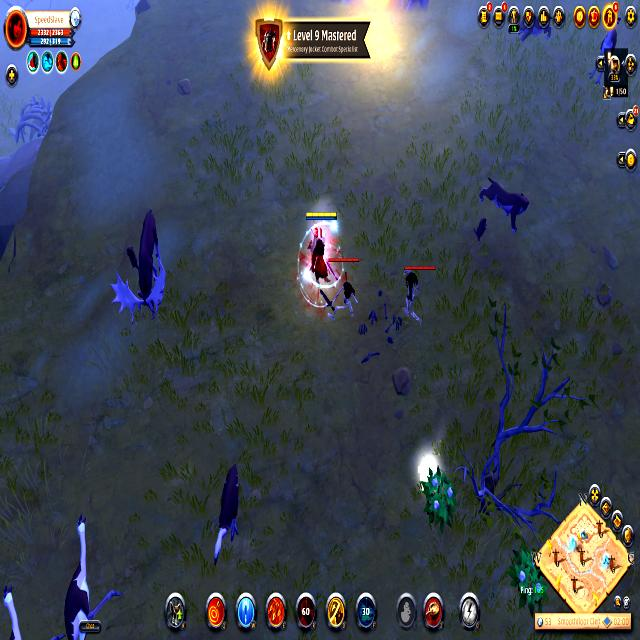hide: (506, 530, 552, 615), (418, 458, 458, 531)
mob: (57, 507, 120, 640)
ore: (117, 202, 167, 328), (206, 447, 250, 574), (480, 166, 539, 235), (323, 250, 362, 318), (401, 256, 438, 316)
red: (299, 207, 339, 282)
stone: (416, 453, 442, 495)
